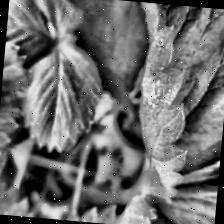Powdery Mildew Leaf: (102, 1, 224, 209)
